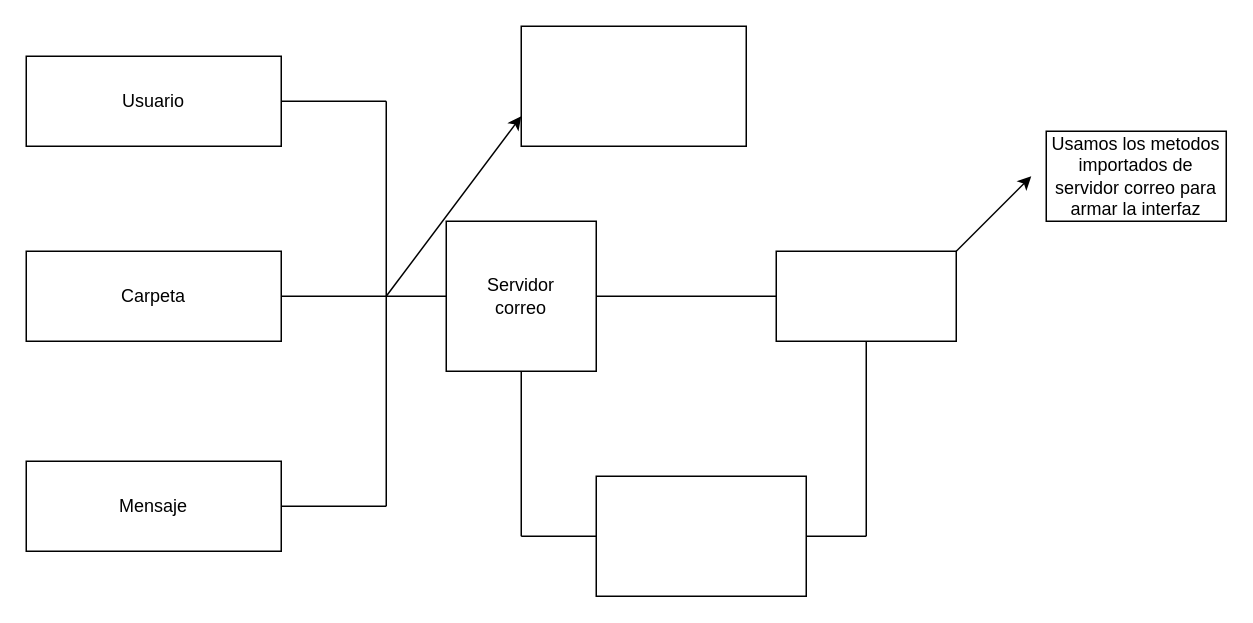
The diagram is 1253 pixels wide and 623 high, and some of its shapes have lost their labels. Here are the shapes that lost their labels. From the top down, the centre of each, then its label:
At (633,85): "Aca importamos los modulos usuario,carpeta y mensaje a servidor correo".
At (865,295): "Interfaz".
At (700,535): "Metodos: *Enviar mensaje *Recibir mensaje *Listar mensajes".
